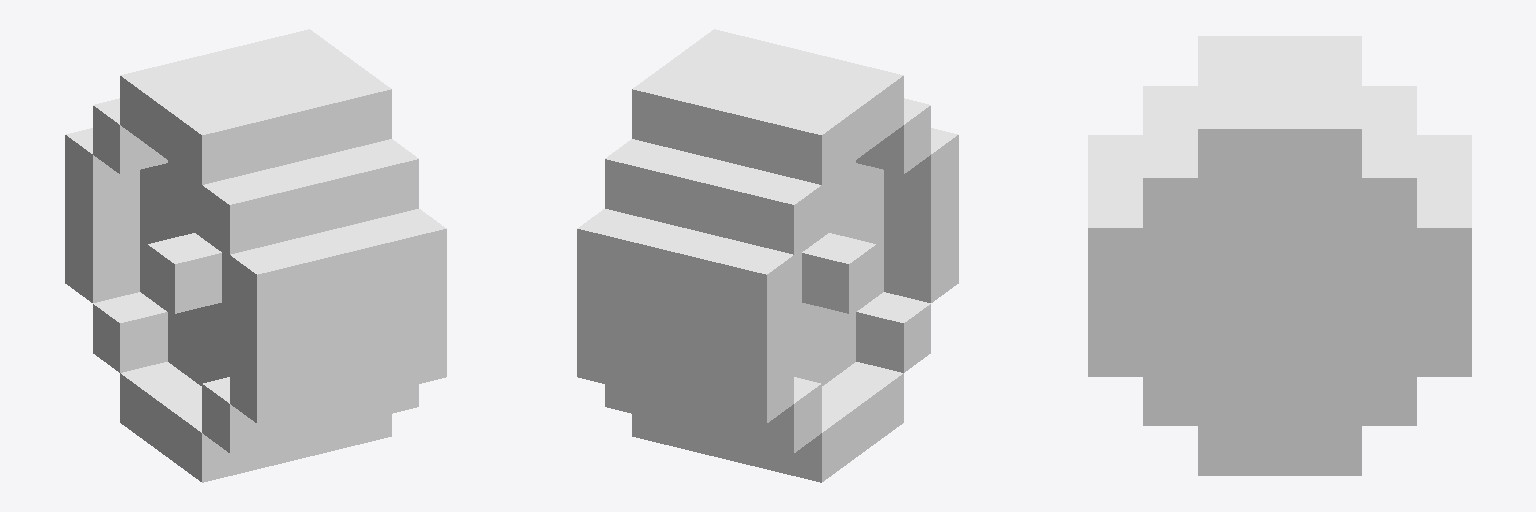
Rendered from Tank-3.obj.
3 views of the same model, side by side, from view 1: azimuth 30°, elevation 25°; view 2: azimuth 150°, elevation 25°; view 3: azimuth 270°, elevation 25° (orthographic).
Visible parts, largest first — view 1: object 1; view 2: object 1; view 3: object 1.
Boxes of the visible parts, box(x1,y1,x2,y2) form: object 1: box(65, 29, 446, 482); object 1: box(577, 29, 958, 482); object 1: box(1088, 36, 1471, 475).
Size of the model in its own units: 0.4 by 0.7 by 0.7.